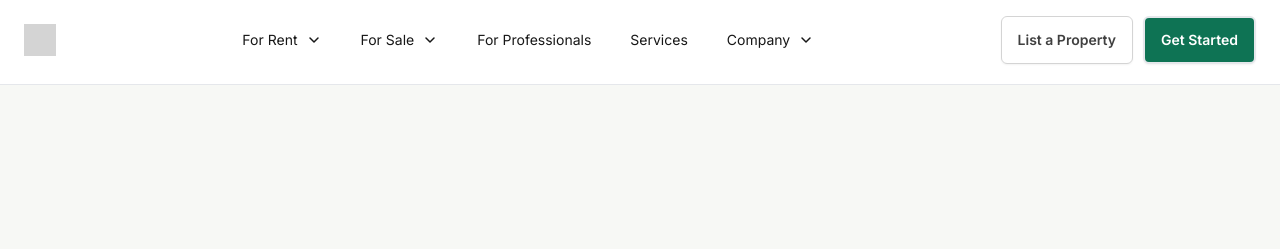
it: Navbar › shows task-based marketplace navigation on desktop
The width and height of the screenshot is (1280, 249).
Expected: the text "For Rent" is shown, [242,30,298,50]
Expected: the text "For Sale" is shown, [360,30,414,50]
Hover over the button "Company" at x=770, y=40, box [727,22,814,58]
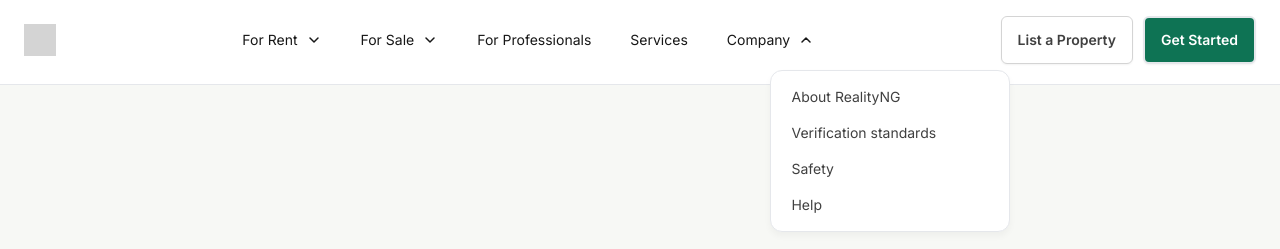
Now the menu item "Verification standards" is shown, box [792,124,936,141]
Now the menu item "Safety" is shown, box [792,160,834,177]
